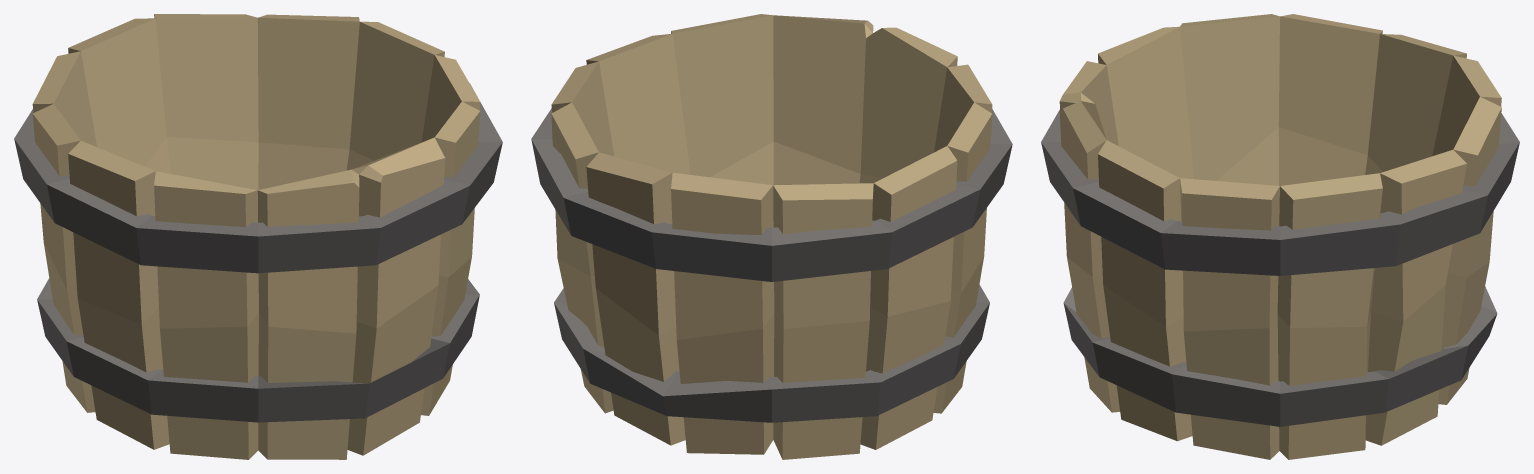
Rendered from Basket.fbx.
3 views of the same model, side by side, from view 1: azimuth 30°, elevation 25°; view 2: azimuth 150°, elevation 25°; view 3: azimuth 270°, elevation 25° (orthographic). The views are drawn at different scales.
Visible parts, largest first — view 1: TwP_Prop_Bascket_01; view 2: TwP_Prop_Bascket_01; view 3: TwP_Prop_Bascket_01.
Boxes of the visible parts, <box> form: TwP_Prop_Bascket_01: <box>14,14,502,459</box>; TwP_Prop_Bascket_01: <box>531,14,1012,459</box>; TwP_Prop_Bascket_01: <box>1041,14,1519,459</box>.
Bounding box in the file's own units: 0.7533 × 0.4994 × 0.7533.
Materials: 1 (1 with a texture image).
